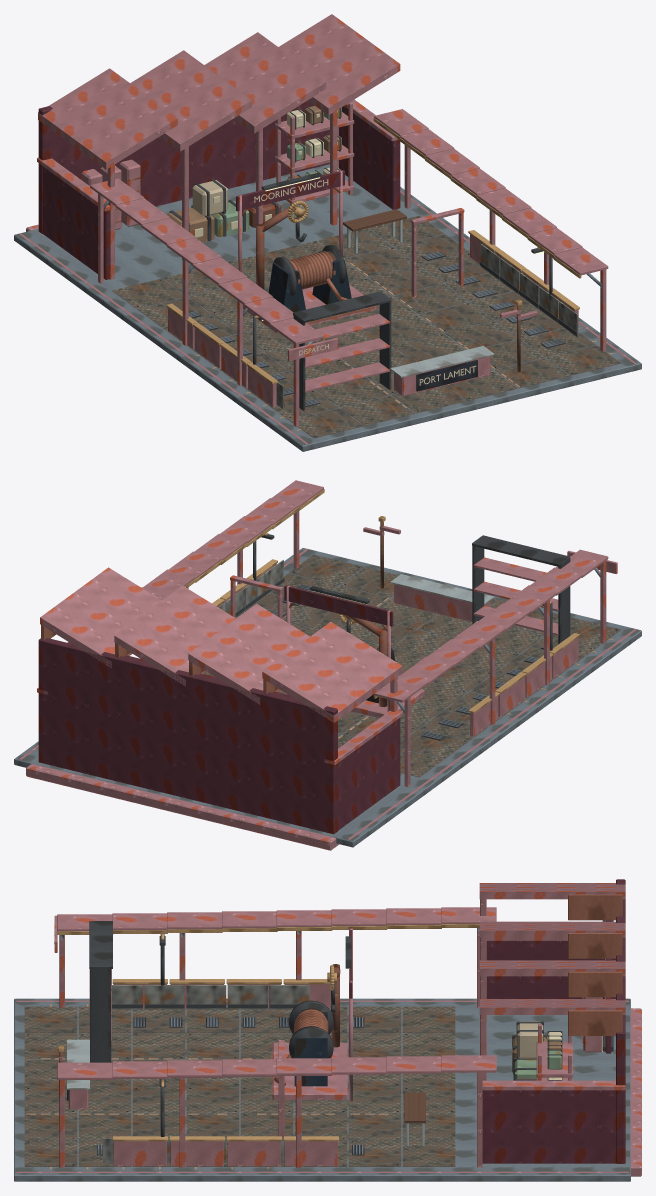
The model's file is candara-depot.glb.
The picture shows the model from 3 angles, top to bottom: view 1: azimuth 30°, elevation 25°; view 2: azimuth 150°, elevation 25°; view 3: azimuth 270°, elevation 25°; orthographic projection. The views are drawn at different scales.
Parts seen in each view (by area): view 1: candara-depot; view 2: candara-depot; view 3: candara-depot.
Part boxes in pixels (left/top/right/bottom): candara-depot: left=14, top=14, right=641, bottom=451; candara-depot: left=14, top=480, right=641, bottom=850; candara-depot: left=14, top=879, right=641, bottom=1181.
Bounding box in the file's own units: 16.9 × 7.43 × 25.34.
Materials: 21 (19 with a texture image).
